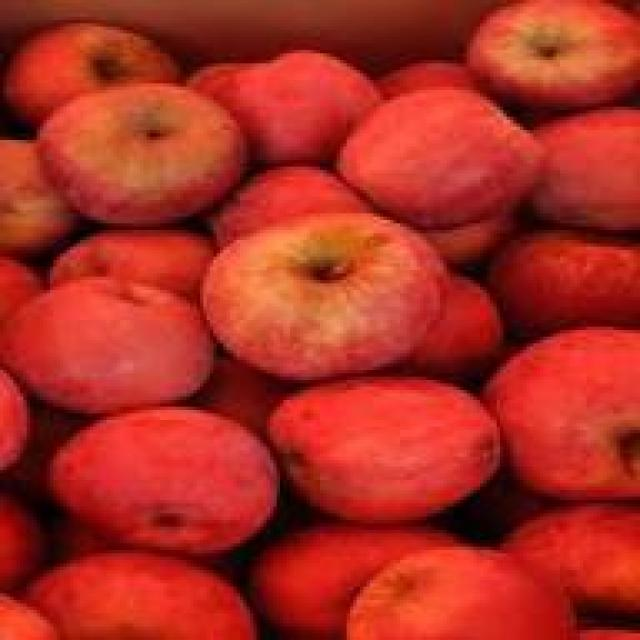apple: (223, 226, 450, 376), (63, 407, 287, 550), (290, 384, 520, 514), (44, 83, 244, 230), (344, 83, 534, 230), (37, 280, 240, 413), (473, 333, 637, 487), (270, 517, 467, 623), (190, 57, 393, 153), (360, 546, 556, 640), (43, 546, 237, 636), (460, 7, 637, 103), (513, 110, 637, 230)
